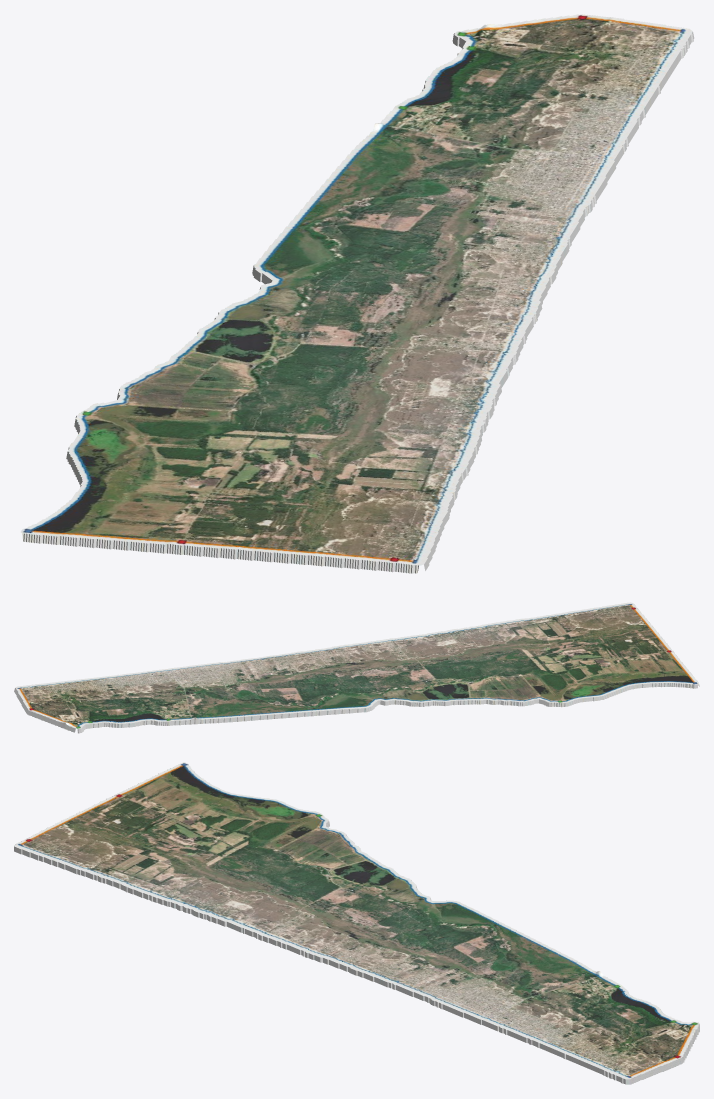
3 renders of one model, top to bottom at view 1: azimuth 30°, elevation 25°; view 2: azimuth 150°, elevation 25°; view 3: azimuth 270°, elevation 25°, orthographic. The views are drawn at different scales.
Bounding box in the file's own units: 0.9999 × 0.0112 × 0.9132.
Materials: 1 (1 with a texture image).
